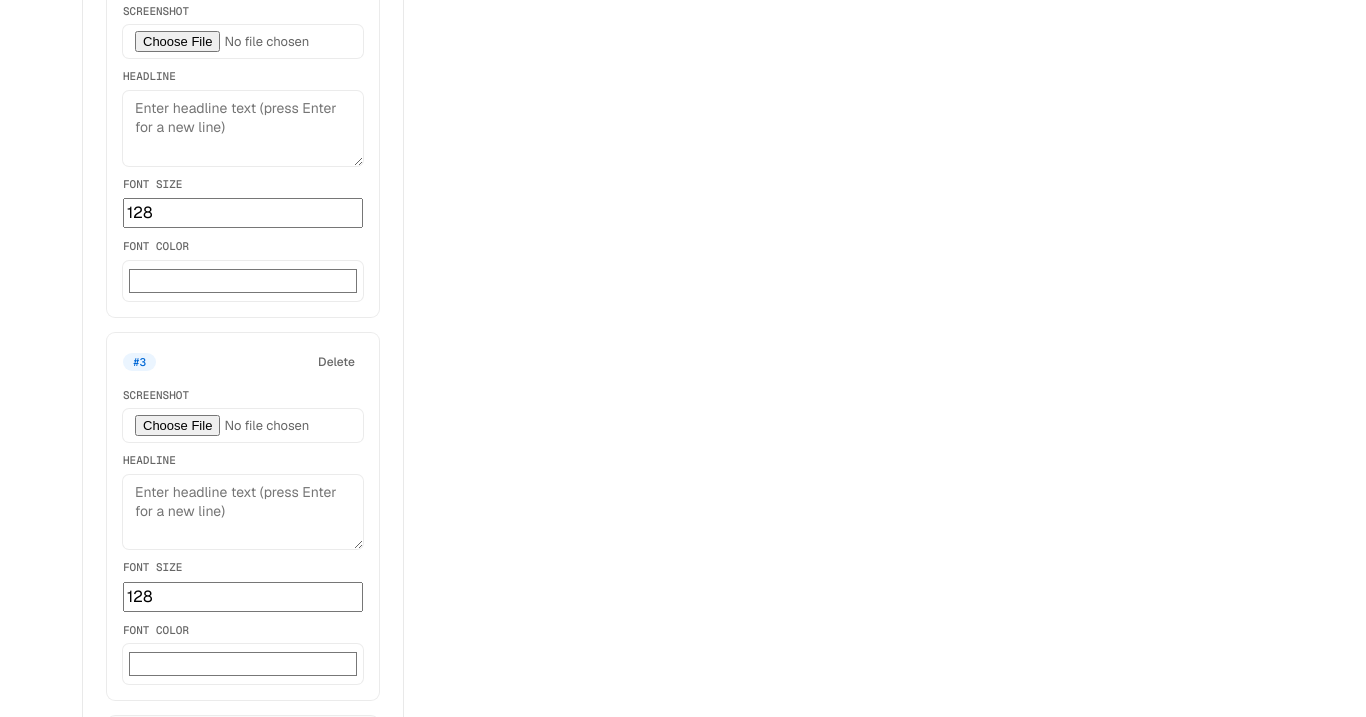
ComposerPage › lets you adjust iPhone slide count down to one item
This screenshot has width=1366, height=717.
(page scrolled)
Click the button with aria-label "Delete slide 3" at (337, 362), box [310, 349, 363, 375]
(page scrolled)
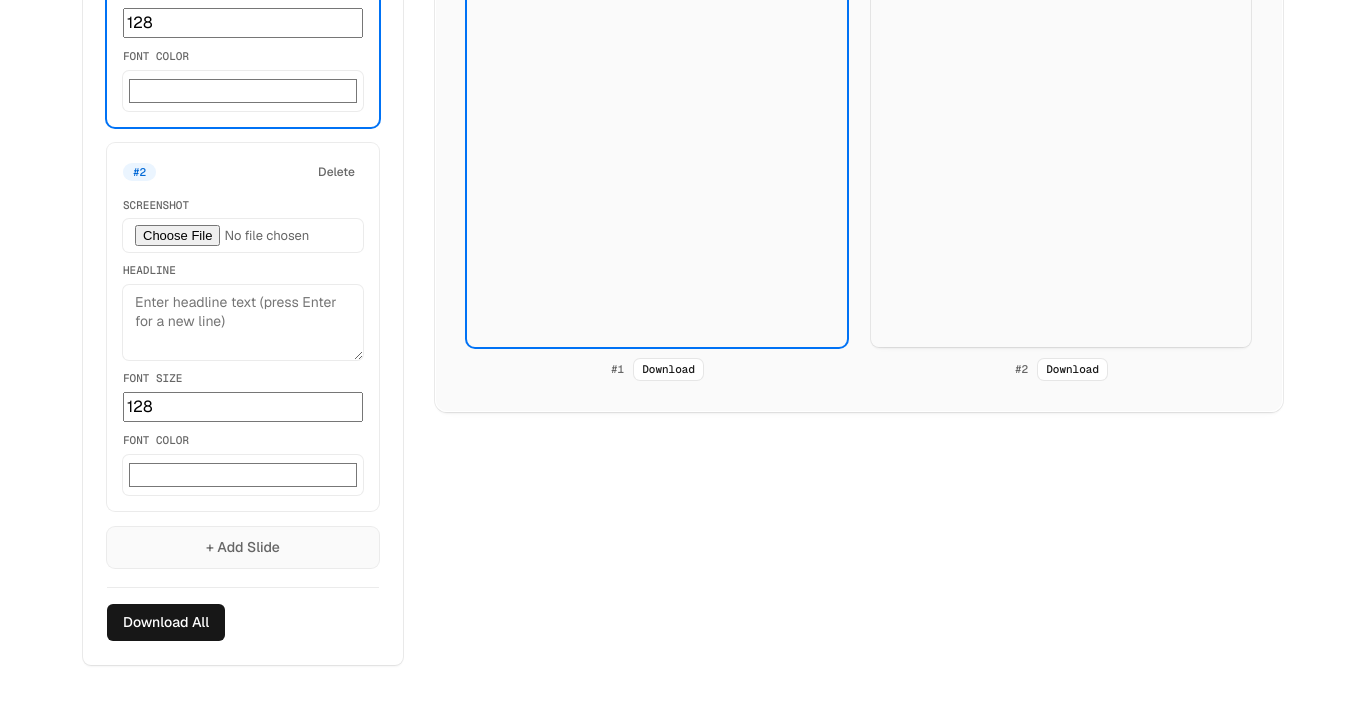
Click the button with aria-label "Delete slide 2" at (337, 172), box [310, 159, 363, 185]
(page scrolled)
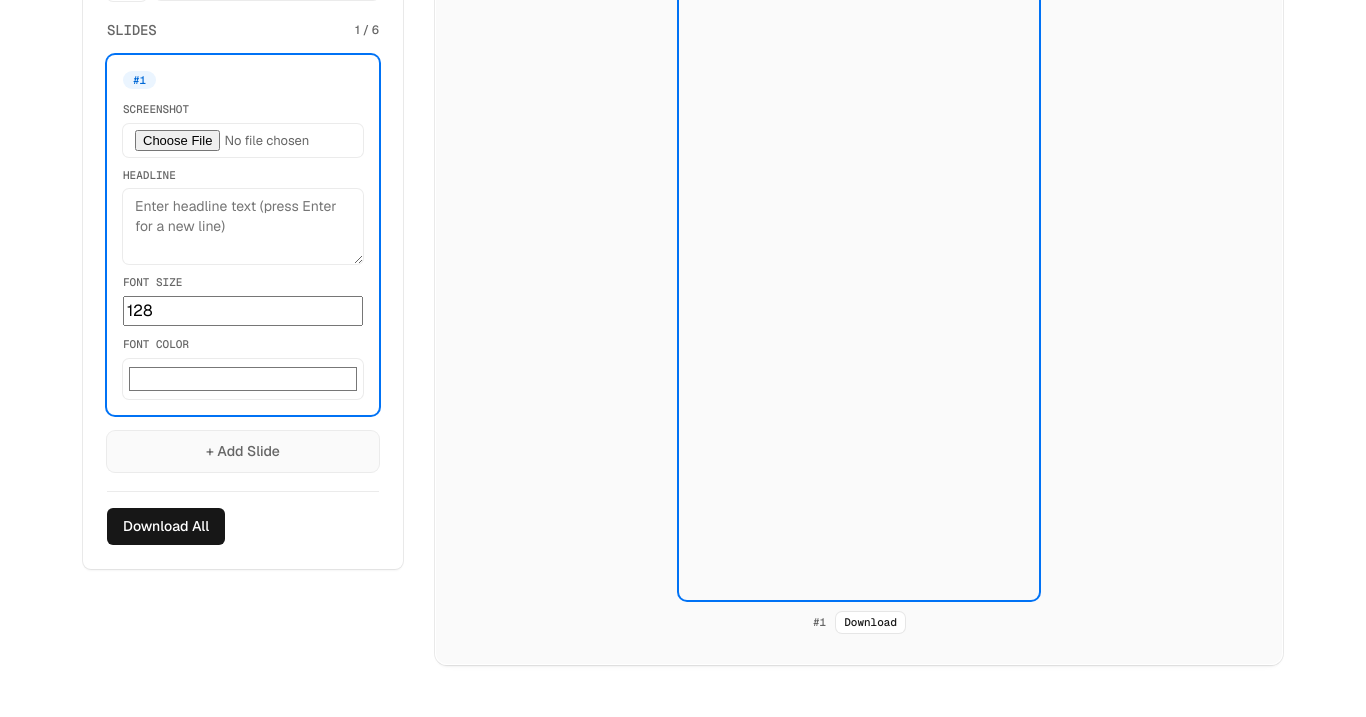
Check: the text "1 / 6" is shown, box [355, 21, 379, 39]
